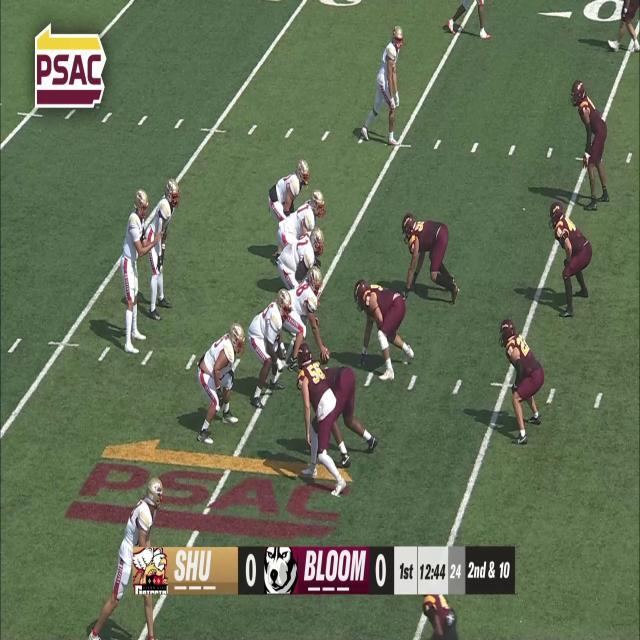football: (318, 348, 330, 364)
